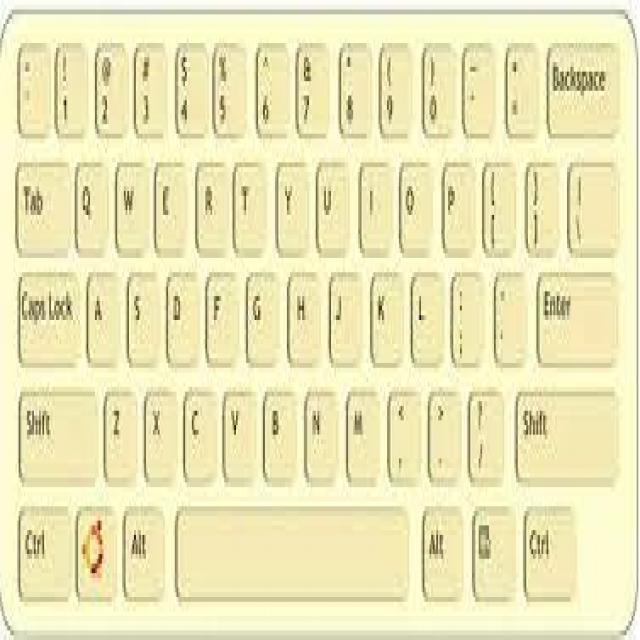others: (1, 4, 640, 625)
